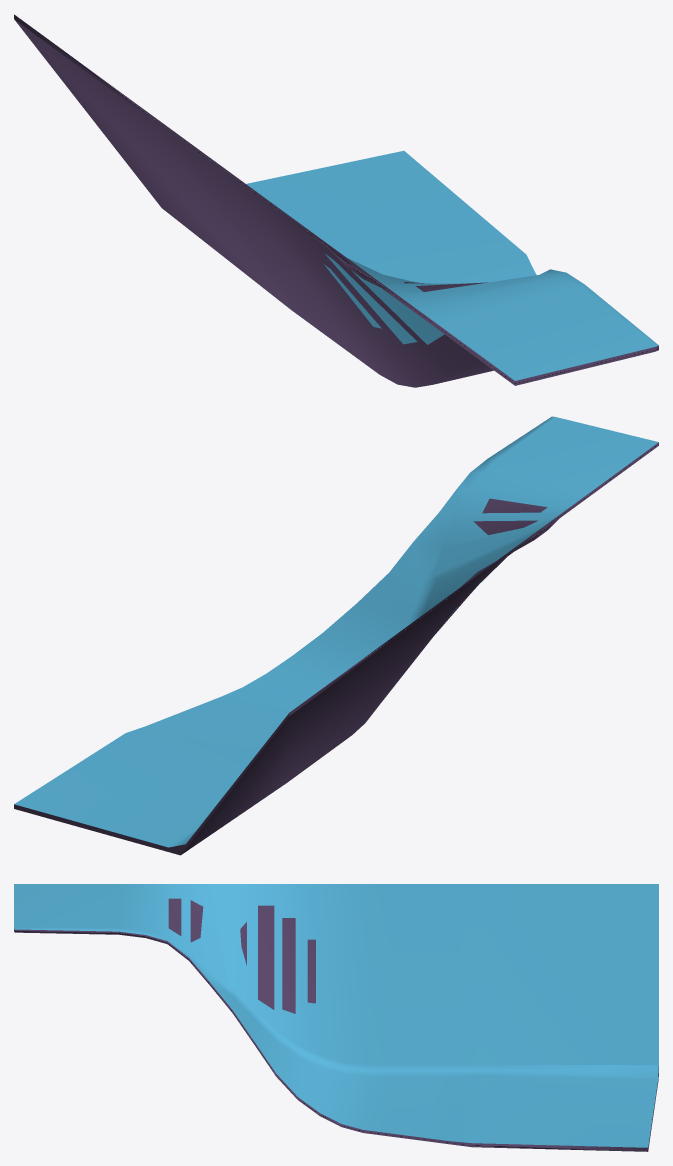
File: frame_07_model.fbx
3 renders of one model, top to bottom at view 1: azimuth 30°, elevation 25°; view 2: azimuth 150°, elevation 25°; view 3: azimuth 270°, elevation 25°, orthographic. The views are drawn at different scales.
Parts seen in each view (by area): view 1: stage_06_model; view 2: stage_06_model; view 3: stage_06_model.
Boxes of the visible parts, x1,y1,x2,y2 form: stage_06_model: [14, 14, 658, 387]; stage_06_model: [14, 416, 658, 855]; stage_06_model: [14, 884, 658, 1151].
Bounding box in the file's own units: 8.17 × 4.7 × 18.58.
